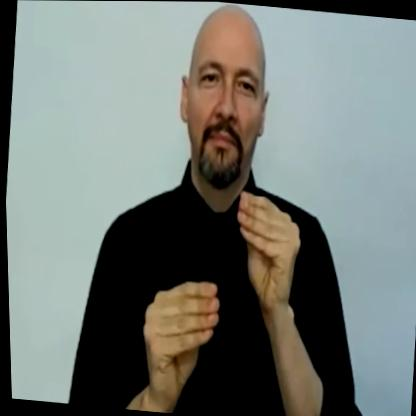Fix: (130, 174, 313, 413)
